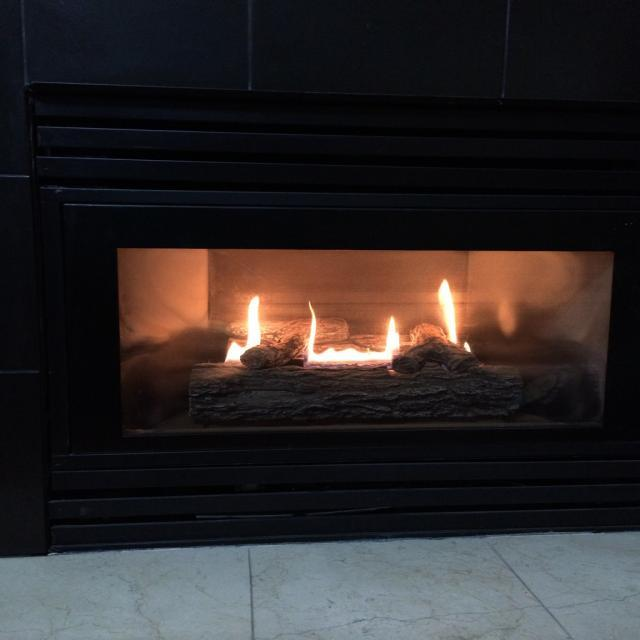Fire: (434, 281, 458, 336), (240, 296, 260, 352)
